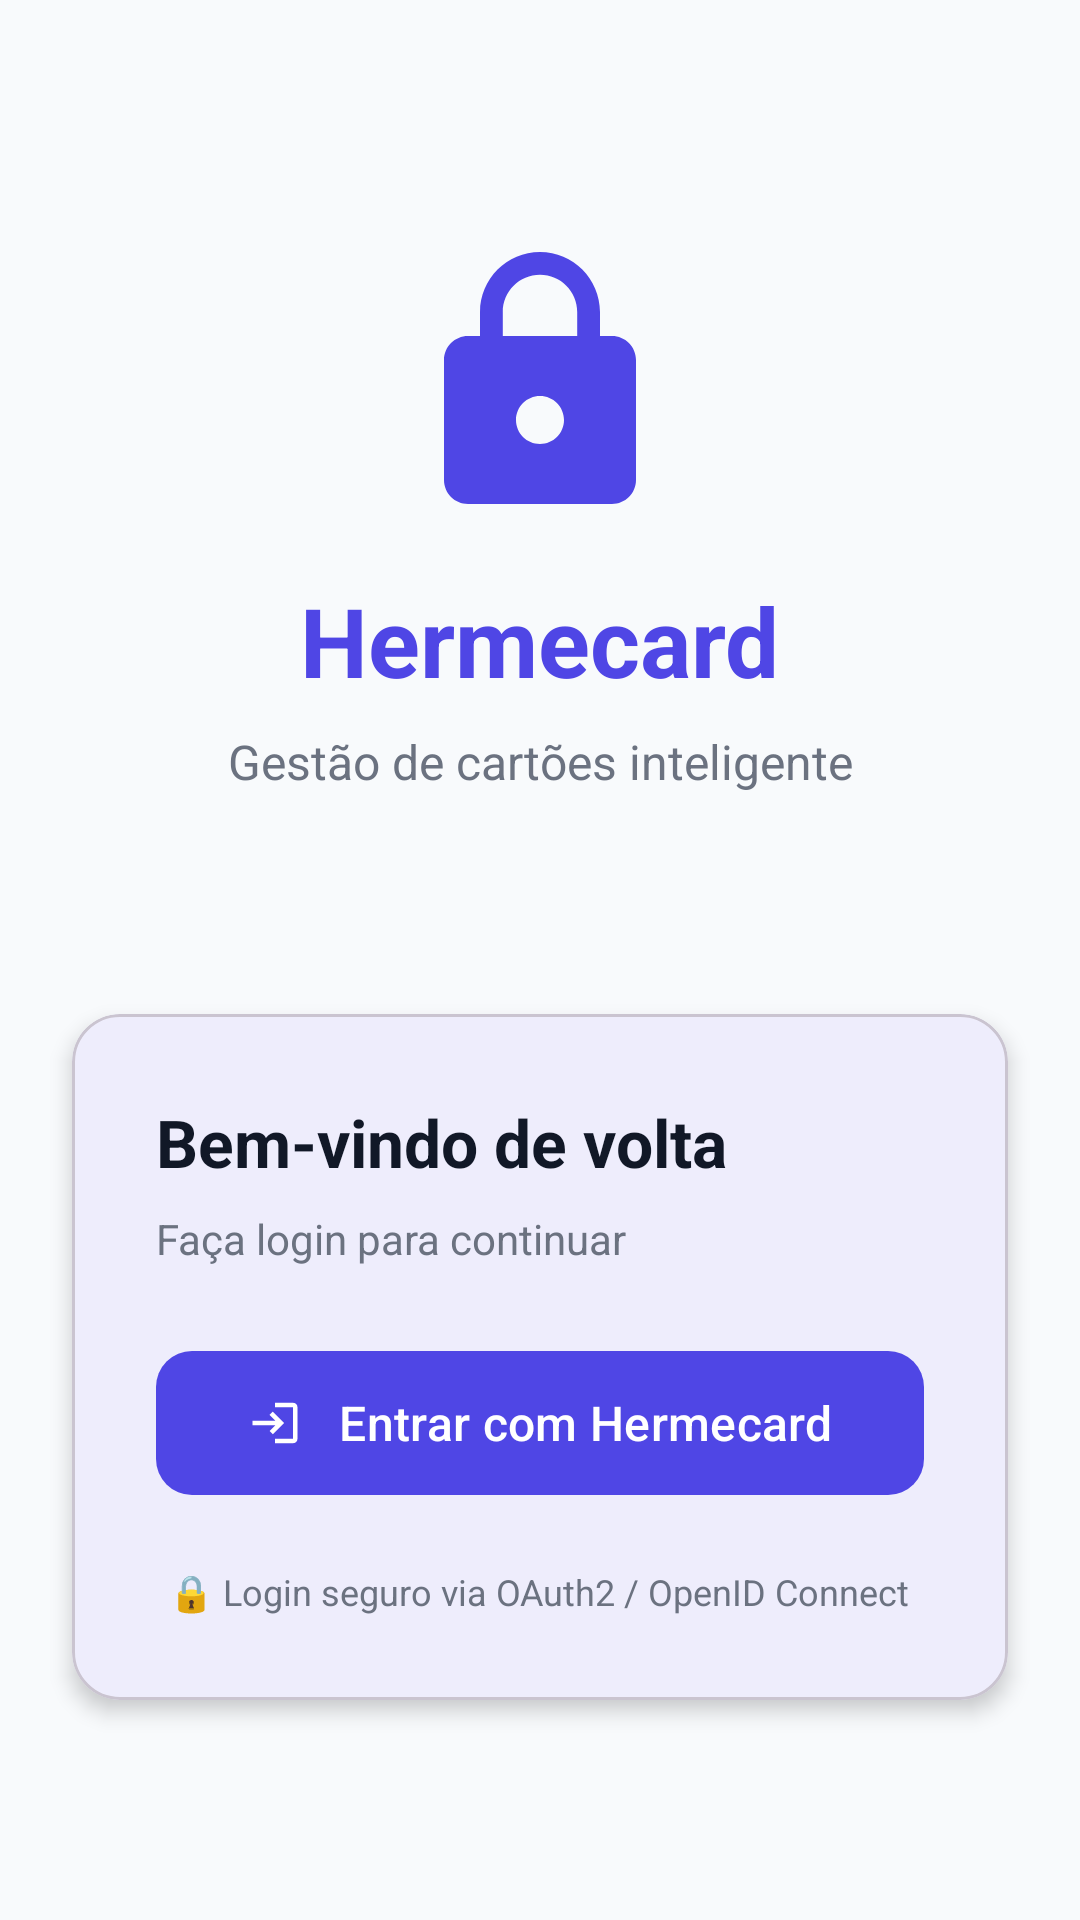

Icons on this 1080px x 1920px Android screen, each with its box as bbox=(x1, y1, x2, y2):
lock: bbox=(444, 252, 636, 504)
